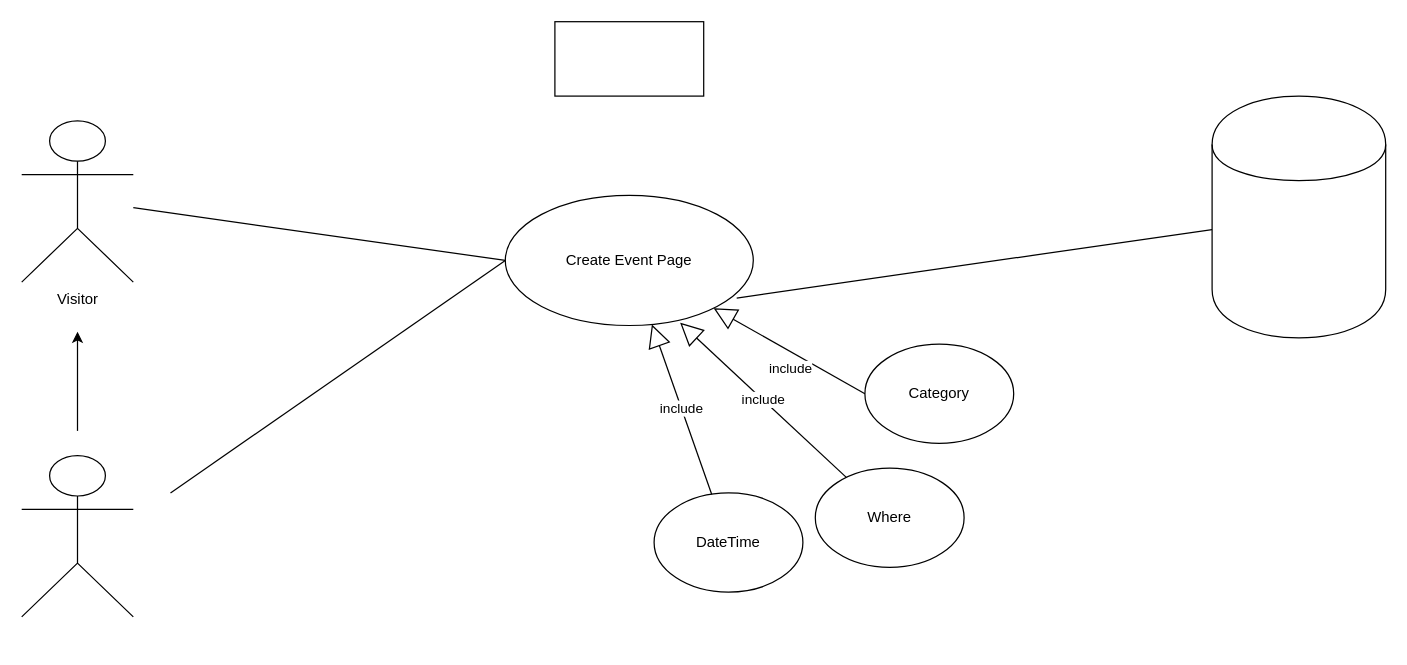
This 1407x665 diagram has some shape labels left out. The shapes that lost their labels are listed below. From the top down, each one's box as (x1, y1, x2, y2) in pixels, then its label:
(554, 20, 704, 96): Adding Events
(1211, 95, 1386, 338): Server
(20, 454, 133, 617): User
